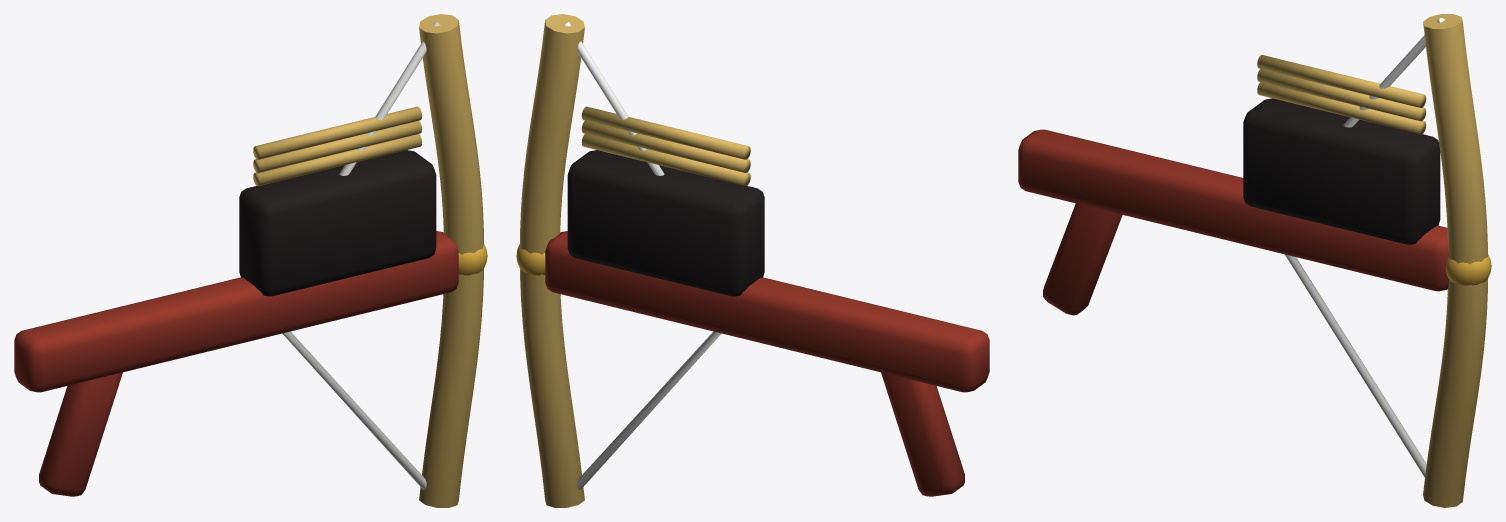
Rendered from ballesta_repeticion.glb.
The picture shows the model from 3 angles, left to right: view 1: azimuth 30°, elevation 25°; view 2: azimuth 150°, elevation 25°; view 3: azimuth 330°, elevation 25°; orthographic projection.
Parts seen in each view (by area): view 1: ballesta_repeticion_fijo; view 2: ballesta_repeticion_fijo; view 3: ballesta_repeticion_fijo.
Part boxes in pixels (box(x1,y1,x2,y2)): ballesta_repeticion_fijo: box(14, 14, 487, 507); ballesta_repeticion_fijo: box(516, 14, 989, 507); ballesta_repeticion_fijo: box(1018, 14, 1491, 507).
Bounding box in the file's own units: 0.915 × 0.9093 × 0.1.
1 material, 1 textured.
